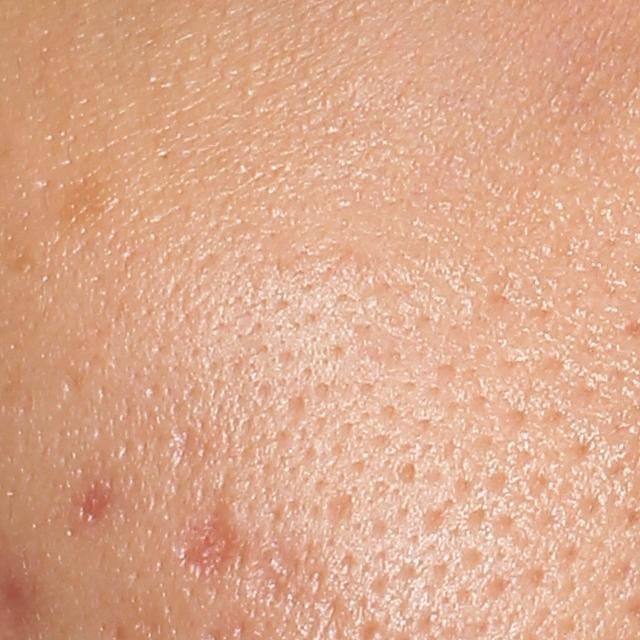atrophic_scar: (176, 474, 238, 581), (252, 533, 312, 611), (164, 400, 202, 489), (359, 278, 419, 316), (74, 478, 111, 529), (324, 491, 352, 532)
melasma: (49, 172, 115, 242)
